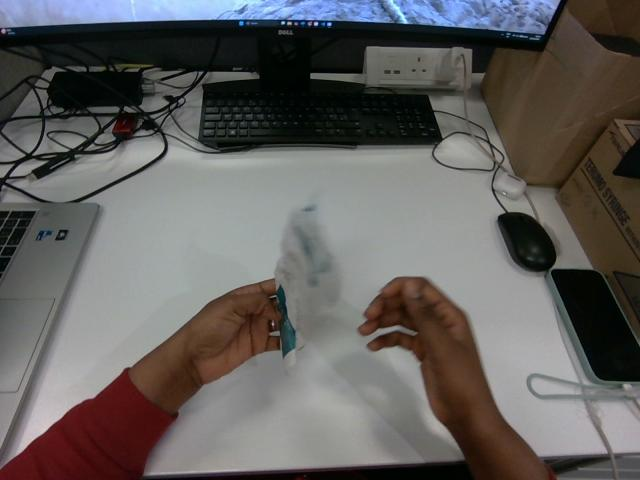gallipot: (275, 205, 339, 370)
